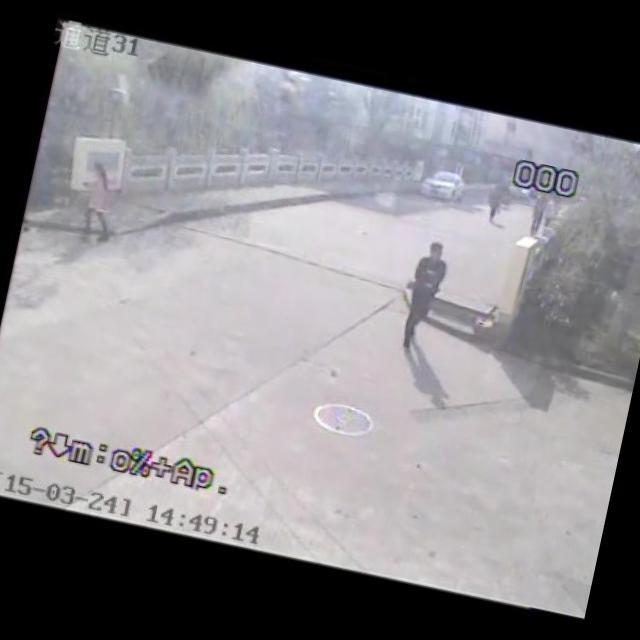person: (392, 235, 452, 358), (68, 156, 128, 244), (480, 180, 516, 226), (522, 193, 548, 240), (540, 197, 568, 230)
